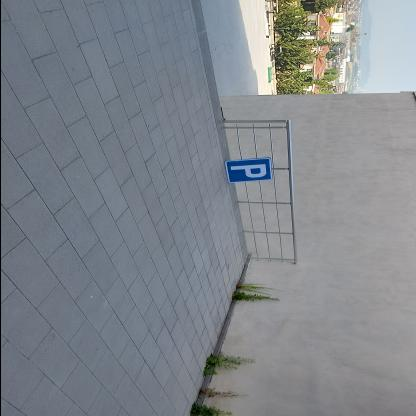Parking-Sign: (223, 158, 273, 185)
